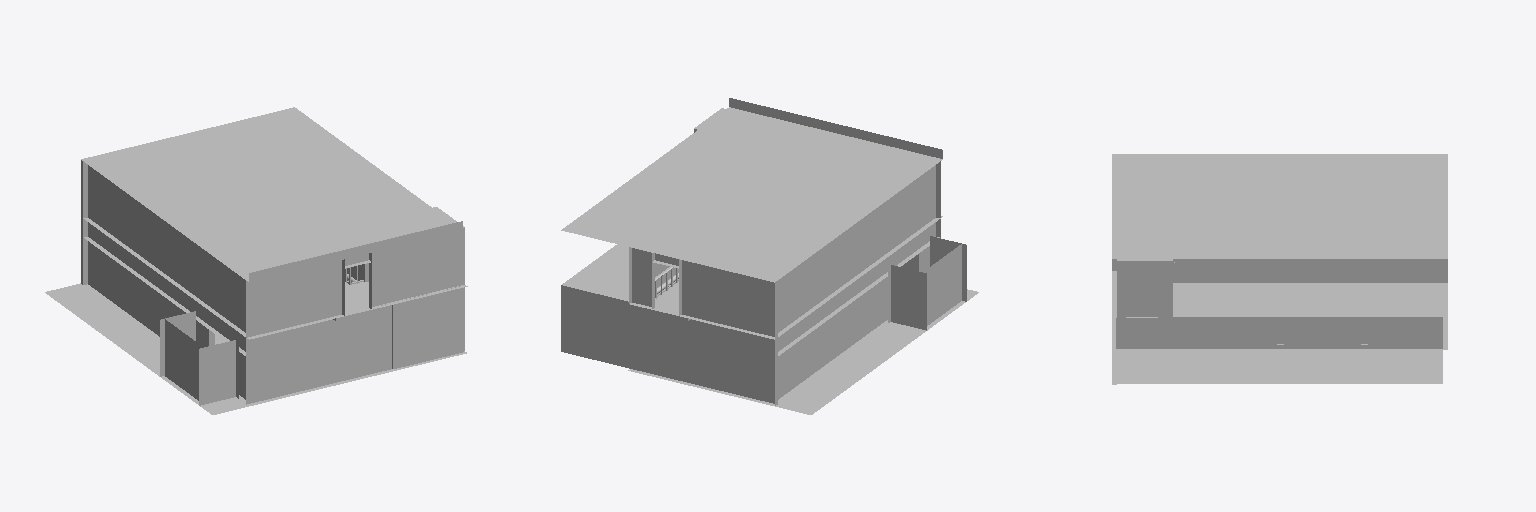
The model's file is HC_room2_pit.obj.
The picture shows the model from 3 angles: view 1: azimuth 30°, elevation 25°; view 2: azimuth 150°, elevation 25°; view 3: azimuth 270°, elevation 25°; orthographic projection.
Parts seen in each view (by area): view 1: room2pit_opt; view 2: room2pit_opt; view 3: room2pit_opt.
Boxes of the visible parts, x1,y1,x2,y2 form: room2pit_opt: [45, 107, 467, 414]; room2pit_opt: [561, 98, 978, 414]; room2pit_opt: [1112, 154, 1447, 384].
Bounding box in the file's own units: 448 × 224 × 512.